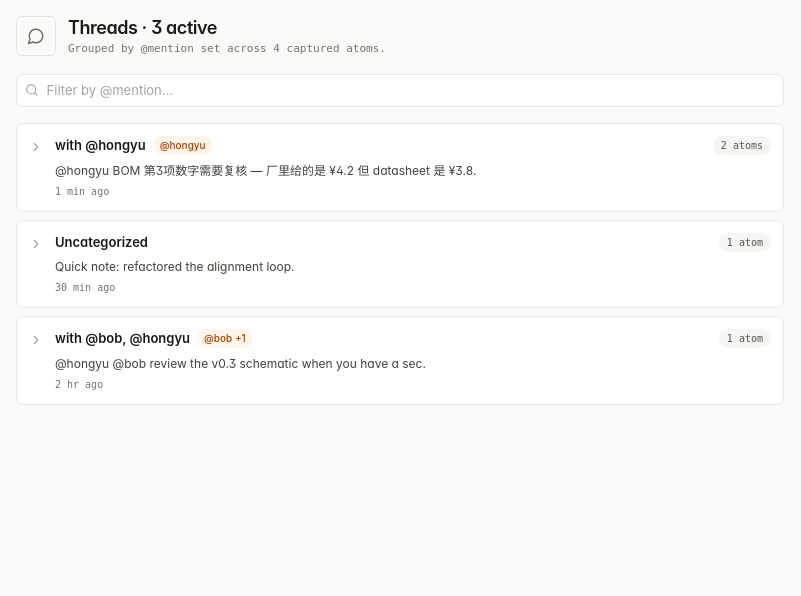
Test: Wave 2 B2 — /threads route › collapses when toggle is re-clicked
This screenshot has width=801, height=596.
Expected: the list with test id "threads-list" is shown, [16, 123, 784, 404]
Step 1. Click the button with test id "thread-card-toggle-hongyu" → [400, 167], box [17, 124, 783, 210]
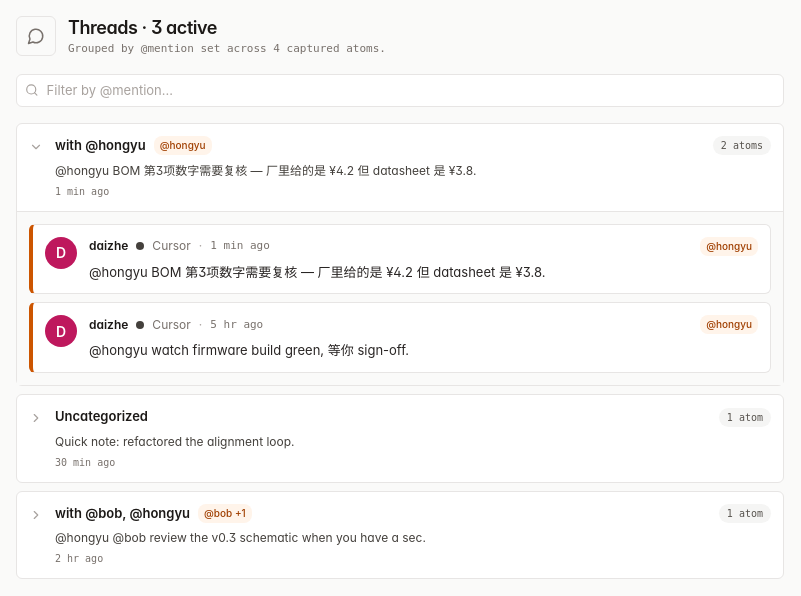
Expected: the element with test id "thread-card-expanded-hongyu" is shown, [17, 210, 783, 385]
Step 2. Click the button with test id "thread-card-toggle-hongyu" → [400, 167], box [17, 124, 783, 210]
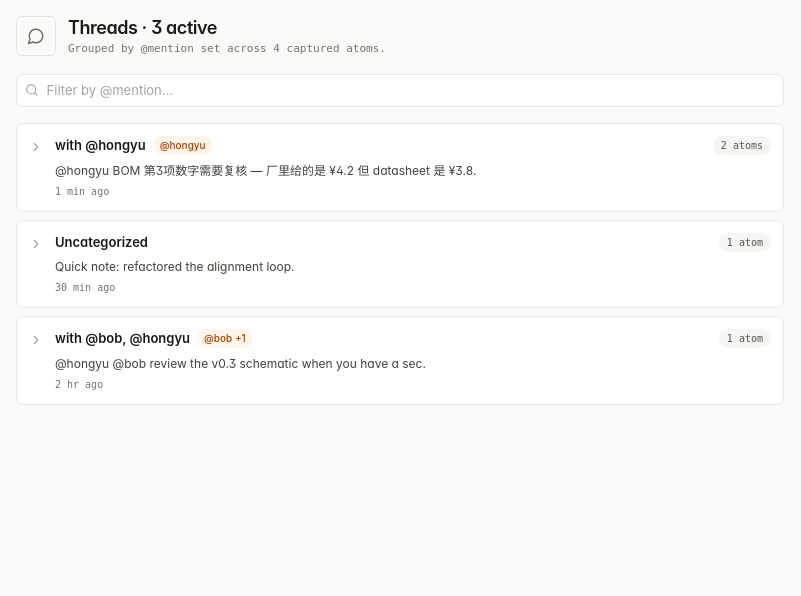
Expected: the element with test id "thread-card-expanded-hongyu" is gone
